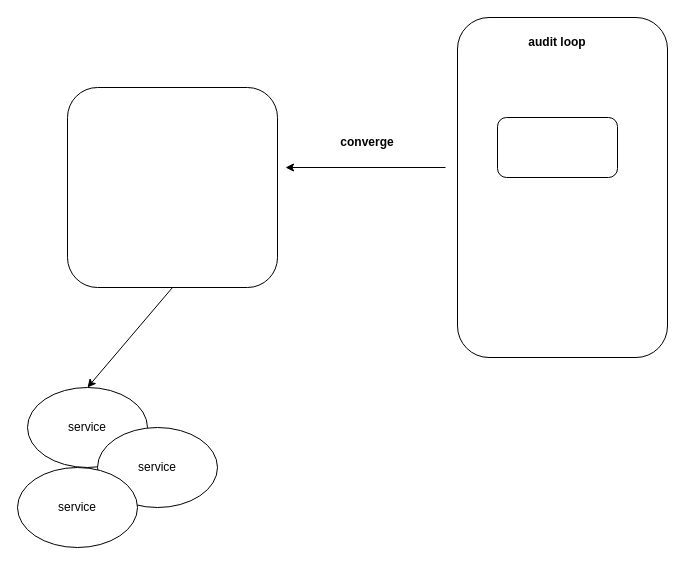
The diagram is 685 pixels wide and 565 high, and some of its shapes have lost their labels. Each missing label, with the box of its shape:
Raku / Sparrow: (496, 116, 618, 178)
systemd: (66, 86, 278, 288)
